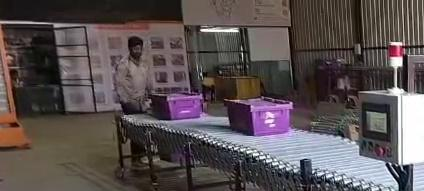box: (225, 97, 292, 135), (150, 93, 202, 119)
